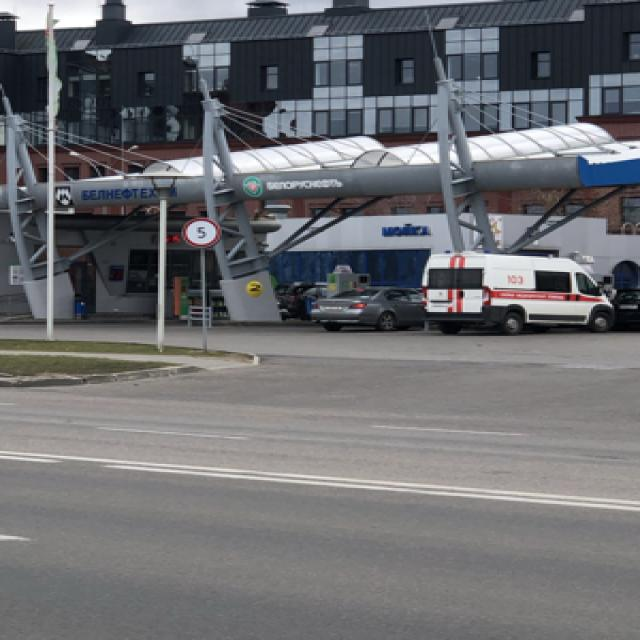speedlimit: (179, 216, 218, 245)
